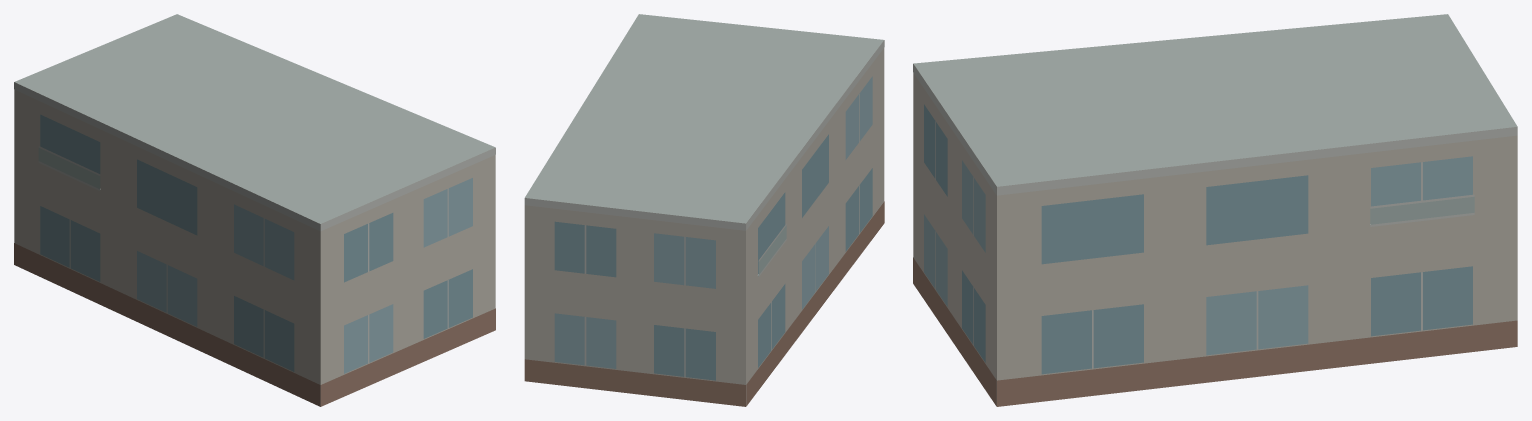
Rendered from survey-upis-32884072.glb.
3 renders of one model, left to right at view 1: azimuth 30°, elevation 25°; view 2: azimuth 150°, elevation 25°; view 3: azimuth 270°, elevation 25°, orthographic. The views are drawn at different scales.
Parts seen in each view (by area): view 1: survey-upis-32884072.tmp; view 2: survey-upis-32884072.tmp; view 3: survey-upis-32884072.tmp.
Boxes of the visible parts, left/top/right/bottom form: survey-upis-32884072.tmp: left=14, top=14, right=495, bottom=406; survey-upis-32884072.tmp: left=524, top=14, right=884, bottom=406; survey-upis-32884072.tmp: left=913, top=14, right=1517, bottom=406.
Bounding box in the file's own units: 10.29 × 6.1 × 15.2.
